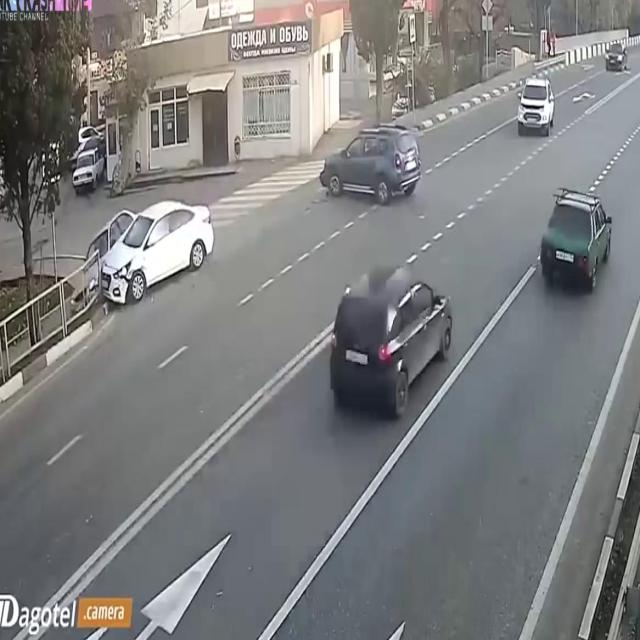accident: (74, 180, 220, 312)
